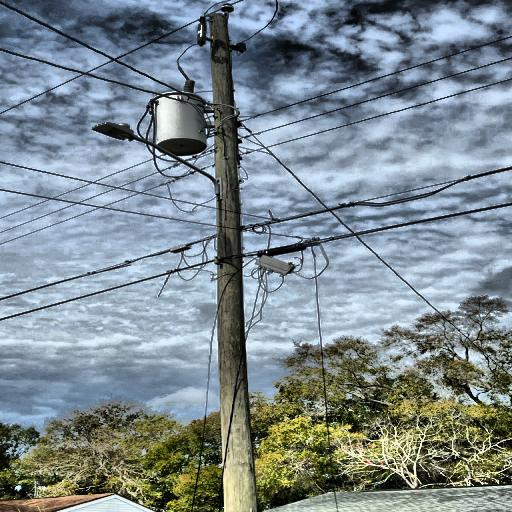insulator: (218, 3, 234, 13)
pole: (201, 2, 278, 512)
street light: (90, 122, 225, 202)
transformer: (150, 90, 210, 156)
